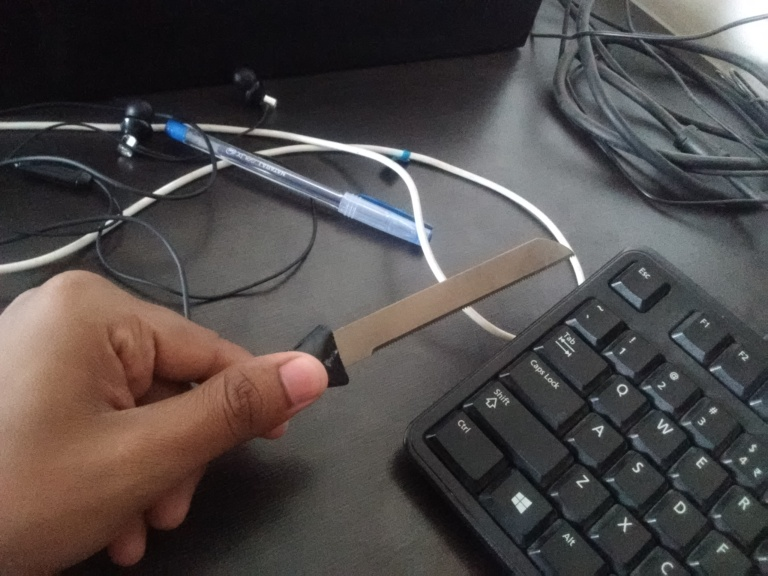knife: (326, 235, 575, 382)
